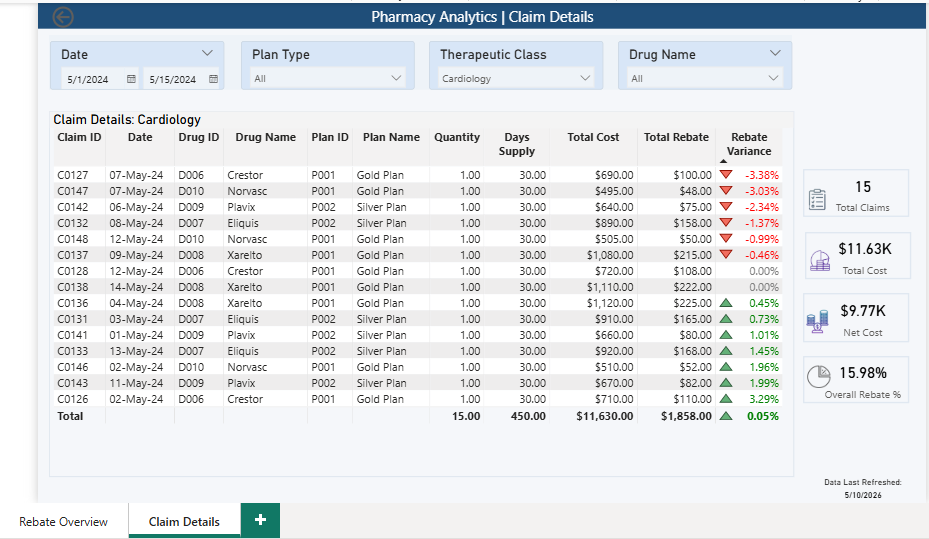

The page's visual inventory and layout, read from the dashboard file:
{"tool":"powerbi","page":{"name":"Claim Details","canvas":[1280,720],"ordinal":2},"visuals":[{"type":"card","title":"Data Last Refreshed:","fields":{"Values":["Min(RefreshDate.RefreshDate)"]},"box":[1094.4,682.6,159.8,37.4],"z":0},{"type":"tableEx","fields":{"Values":["Claims.Claim_ID","Claims.Date","Claims.Drug_ID","Drugs.Drug_Name","Claims.Plan_ID","Plans.Plan_Name","Sum(Claims.Quantity)","Sum(Claims.Days_Supply)","Claims.Total Cost","Claims.Total Rebate","Claims.Rebate Variance %","select"]},"box":[15.8,187.2,1238.4,495.4],"z":1000},{"type":"shape","box":[0,0,1280.2,128.2],"z":2000},{"type":"image","box":[53.3,82.1,47.5,41.8],"z":3000},{"type":"slicer","fields":{"Values":["Drugs.Drug_Name"]},"box":[1073.2,20.2,181.1,57.6],"z":4000},{"type":"slicer","fields":{"Values":["Drugs.Therapeutic_Class"]},"box":[917.3,21.6,162.7,59],"z":5000},{"type":"slicer","fields":{"Values":["Plans.Plan_Type"]},"box":[763.2,23,162.7,60.5],"z":6000},{"type":"slicer","title":"Date","fields":{"Values":["Claims.Date"]},"box":[534.2,23,234.7,60.5],"z":7000},{"type":"actionButton","box":[15.8,146.9,1238.4,33.1],"z":8000},{"type":"image","box":[13,89.3,38.9,30.2],"z":9000},{"type":"group","id":"g1","title":"Group 13","box":[104.3,83.7,153,40.4],"z":10000},{"type":"actionButton","box":[104.3,83.7,152.8,38.9],"z":17000,"group":"g1"},{"type":"actionButton","box":[104.3,85.1,153,39],"z":18000,"group":"g1"}]}

Visuals, with their boxes on the page's 1280x720 design canvas (x1, y1, x2, y2). These are canvas units, not pixel positions in the 929x539 screenshot, which may show the page scaled, cropped or inside an application window:
"Data Last Refreshed:" card: rect(1094, 683, 1254, 720)
tableEx - Claims.Claim_ID x Claims.Date: rect(16, 187, 1254, 683)
shape: rect(0, 0, 1280, 128)
image: rect(53, 82, 101, 124)
slicer - Drugs.Drug_Name: rect(1073, 20, 1254, 78)
slicer - Drugs.Therapeutic_Class: rect(917, 22, 1080, 81)
slicer - Plans.Plan_Type: rect(763, 23, 926, 84)
"Date" slicer: rect(534, 23, 769, 84)
actionButton: rect(16, 147, 1254, 180)
image: rect(13, 89, 52, 120)
"Group 13" group: rect(104, 84, 257, 124)
actionButton: rect(104, 84, 257, 123)
actionButton: rect(104, 85, 257, 124)
